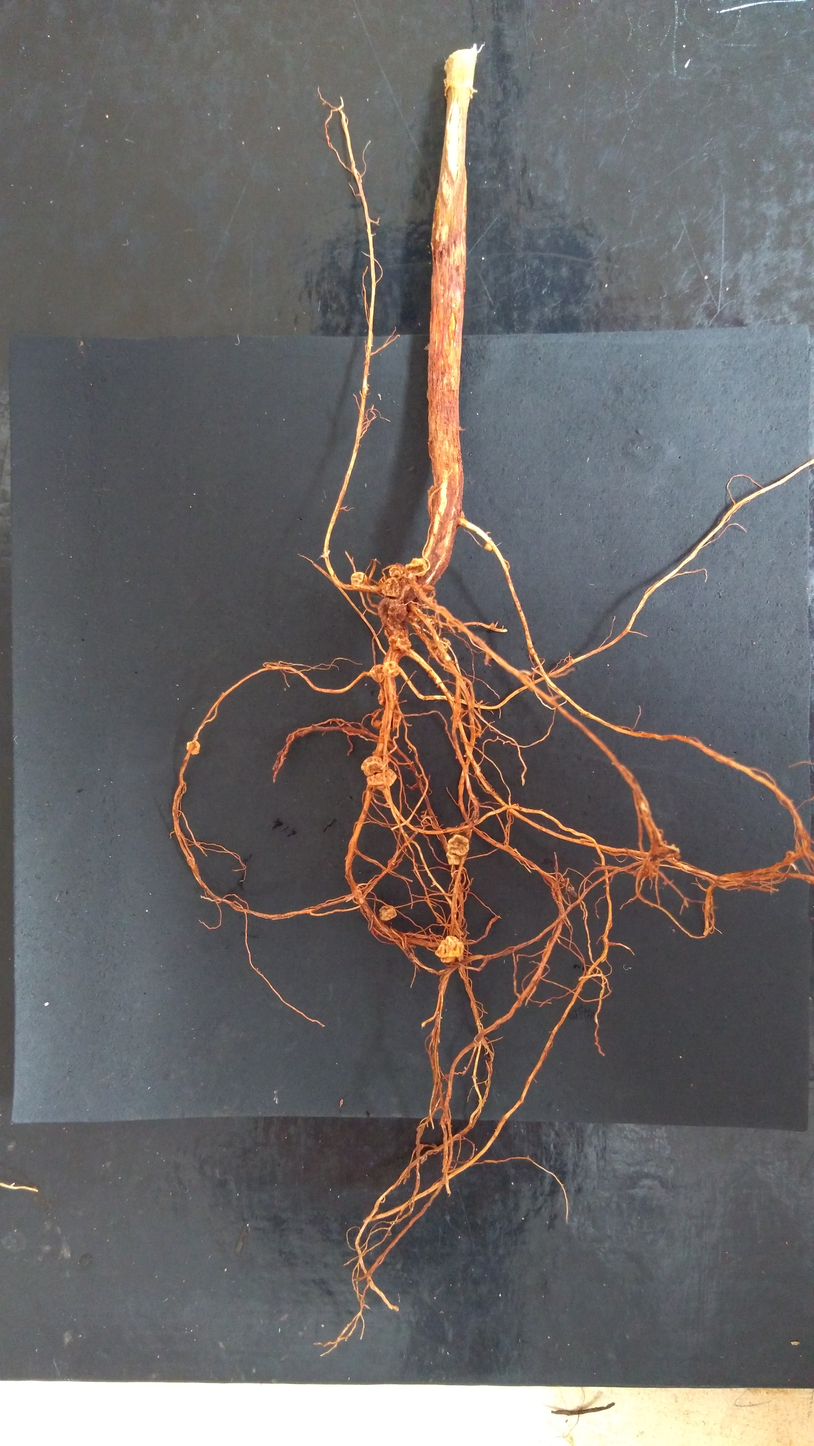nodule: (360, 756, 397, 789), (434, 935, 466, 964), (377, 597, 407, 626), (384, 624, 412, 653), (394, 577, 421, 602), (447, 833, 470, 857), (426, 637, 452, 658), (404, 557, 429, 577), (380, 577, 401, 597), (369, 664, 386, 683), (382, 661, 400, 678), (387, 564, 406, 580), (378, 905, 397, 921), (350, 572, 369, 587), (446, 851, 466, 865), (391, 706, 402, 731), (407, 605, 422, 622), (186, 740, 201, 755), (378, 688, 390, 706), (408, 572, 421, 586), (428, 485, 436, 499), (483, 542, 494, 552), (423, 583, 434, 593), (785, 849, 796, 858), (373, 719, 382, 729), (459, 510, 465, 518), (490, 622, 495, 629)
